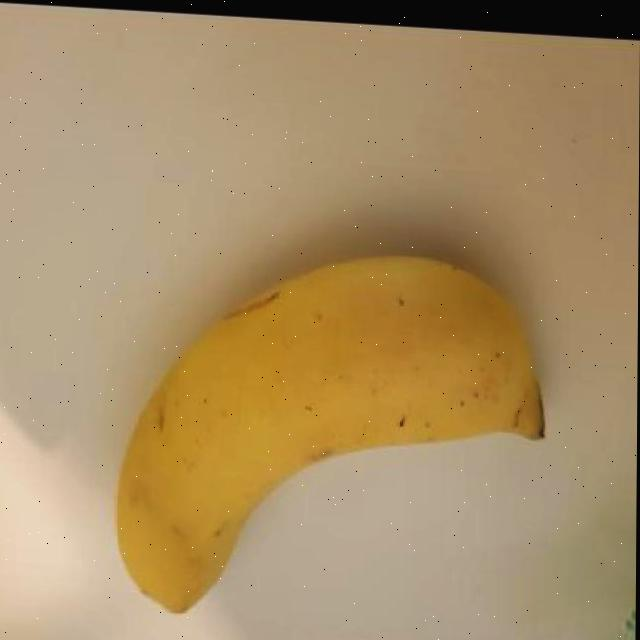banana: (108, 224, 551, 640)
